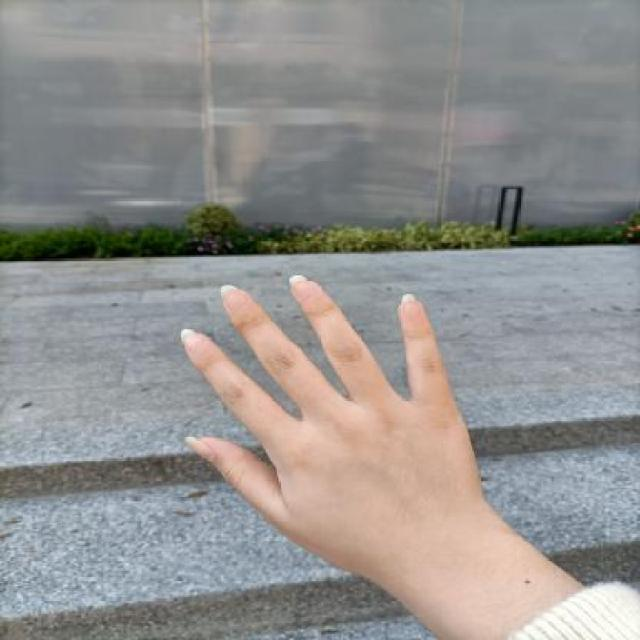bare_hand: (152, 256, 520, 593)
